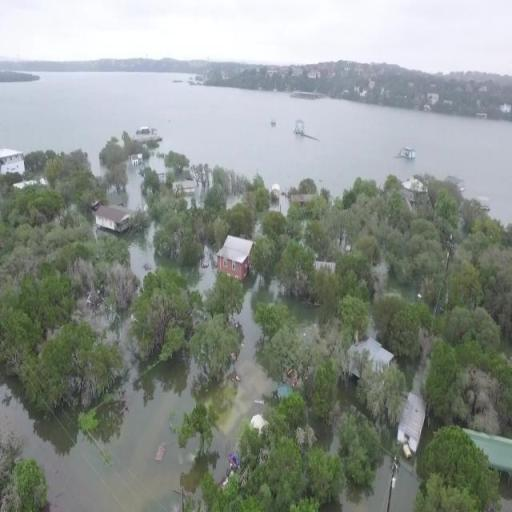flood: (0, 72, 512, 223), (0, 329, 196, 512), (233, 280, 280, 423), (330, 455, 418, 512), (129, 227, 158, 278), (184, 265, 216, 292), (127, 167, 144, 208)
house: (216, 229, 256, 285), (348, 338, 396, 382), (93, 200, 137, 237), (403, 171, 430, 206), (0, 146, 28, 178), (172, 170, 199, 196)
